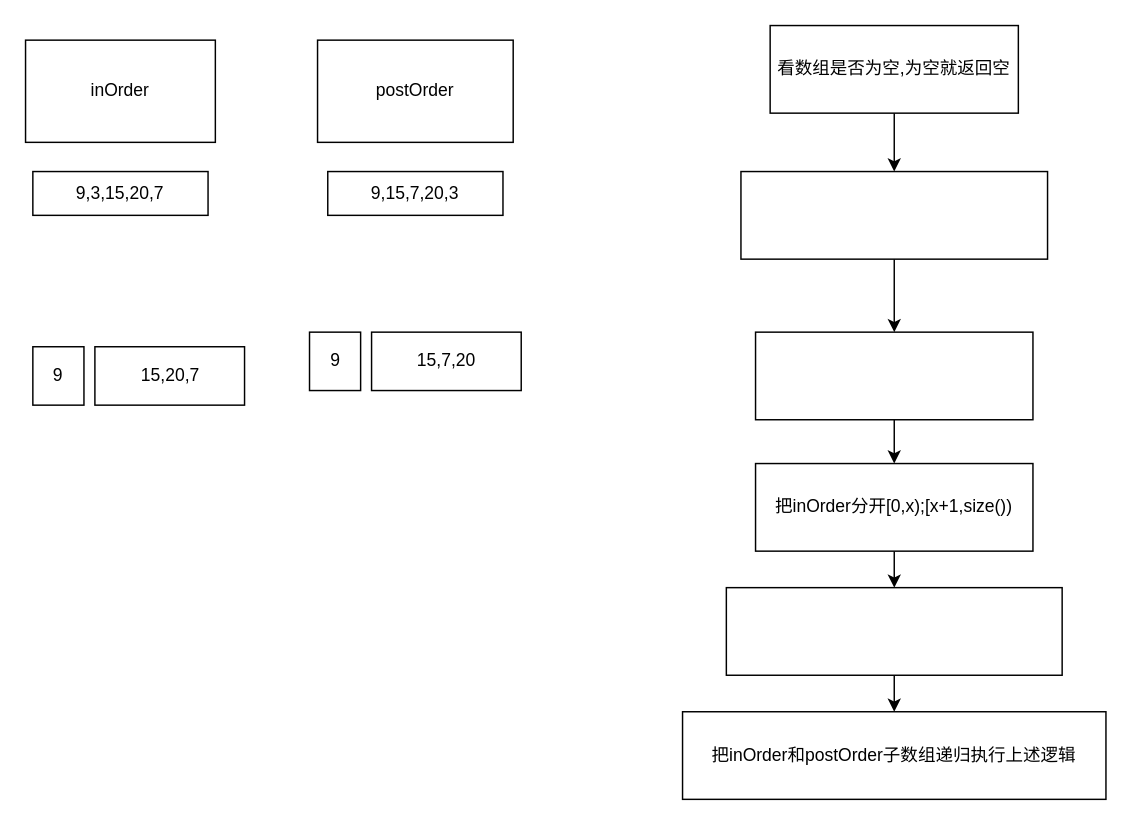
Some shapes in this 1132 by 825 pixel diagram are drawn without their labels. Here are the shapes that lost their labels. From the top down, the centre of each, then its label:
the point at 893,214: 拿到postOrder最后一个结点,rootNode
the point at 893,375: 在inOrder中找到rootNode的位置x
the point at 893,630: 把postOrder也按照inOrder的尺寸分割
